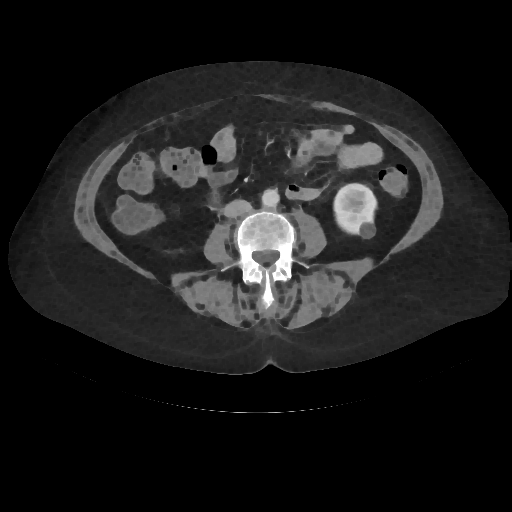Lesion: (356, 218, 379, 242)
